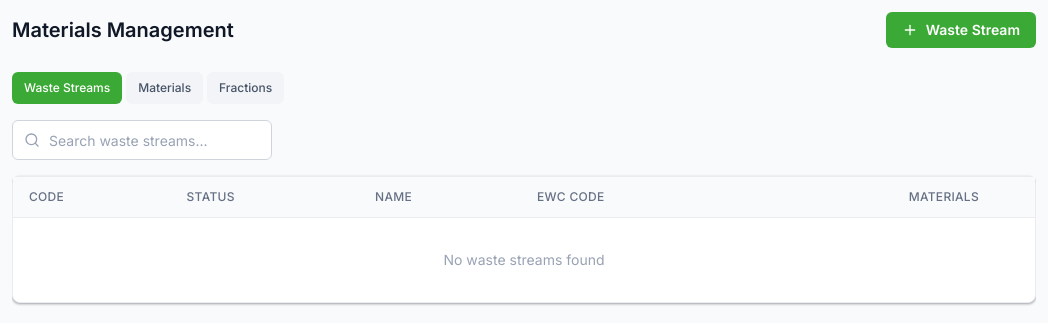
Test case: MaterialsManagementPage › switches to Fractions tab and shows empty state
Click the button "Fractions". click: (246, 88)
box: [207,72,284,104]
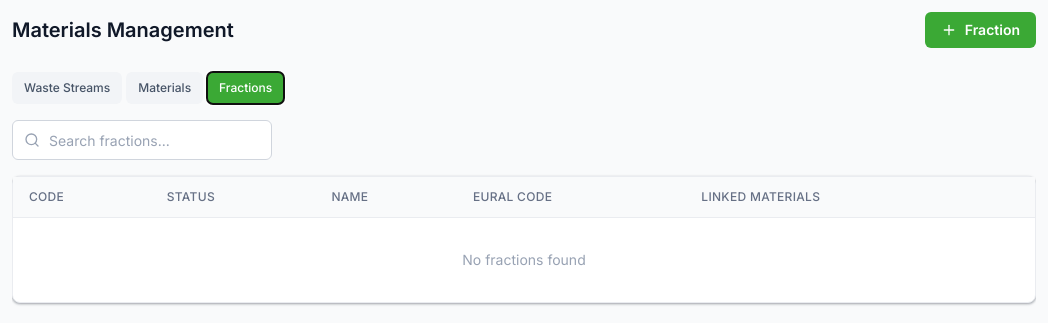
Expected: the text "No fractions found" is shown, [13,218,1035,302]
